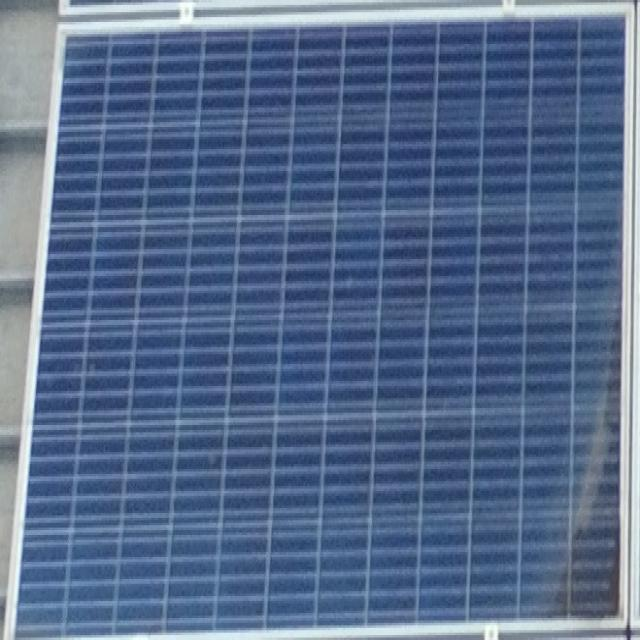Dust: (542, 289, 625, 631)
